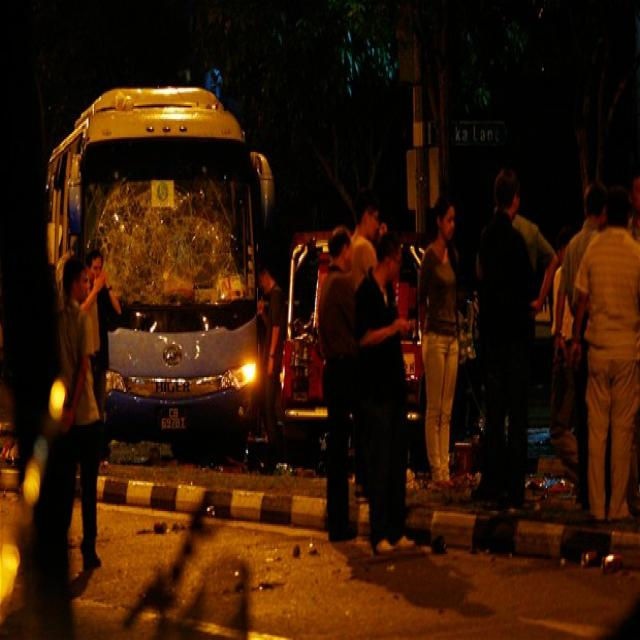Bus: (54, 52, 281, 484)
People: (536, 149, 619, 509), (586, 152, 640, 570), (470, 127, 518, 546), (415, 144, 463, 524), (361, 238, 416, 561), (318, 222, 354, 552), (56, 251, 96, 537), (346, 176, 386, 441), (89, 238, 113, 486)
